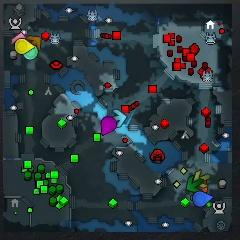p1: (193, 192, 213, 207)
p2: (23, 46, 38, 60)
p3: (101, 116, 116, 135)
p4: (15, 38, 34, 55)
p5: (199, 186, 210, 191)
x1: (11, 32, 26, 43)
x2: (194, 171, 210, 188)
x3: (112, 109, 127, 128)
x4: (187, 176, 203, 193)
x5: (27, 36, 41, 49)
